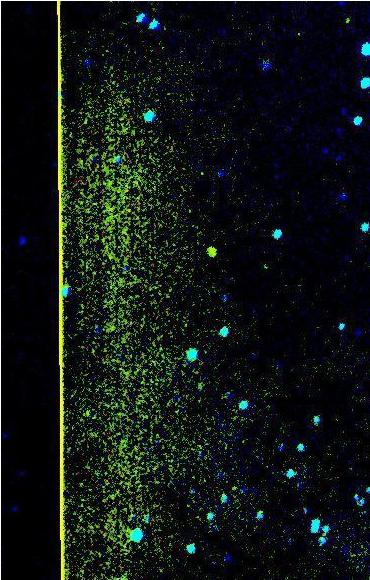star: (334, 9, 364, 39)
